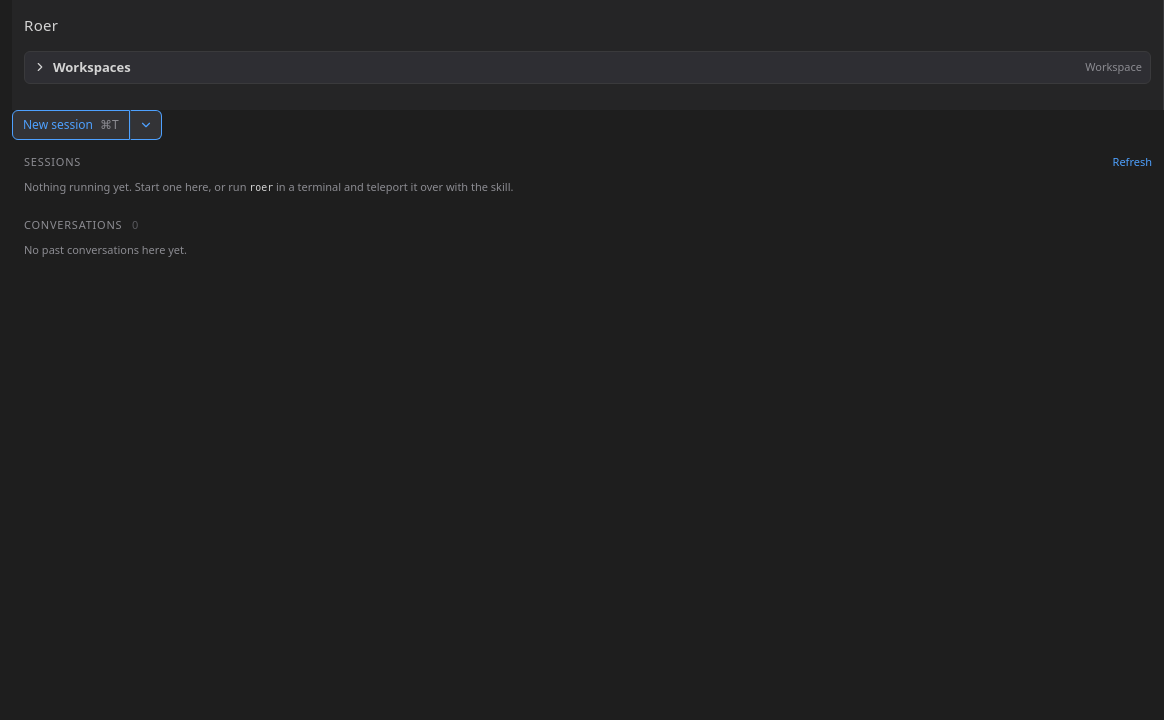
it: the selected workspace › offers no Delete for Default, only for the ones after it
The width and height of the screenshot is (1164, 720).
Click the button with aria-label "Switch Workspace or Project": click(92, 66) [24,50,1151,84]
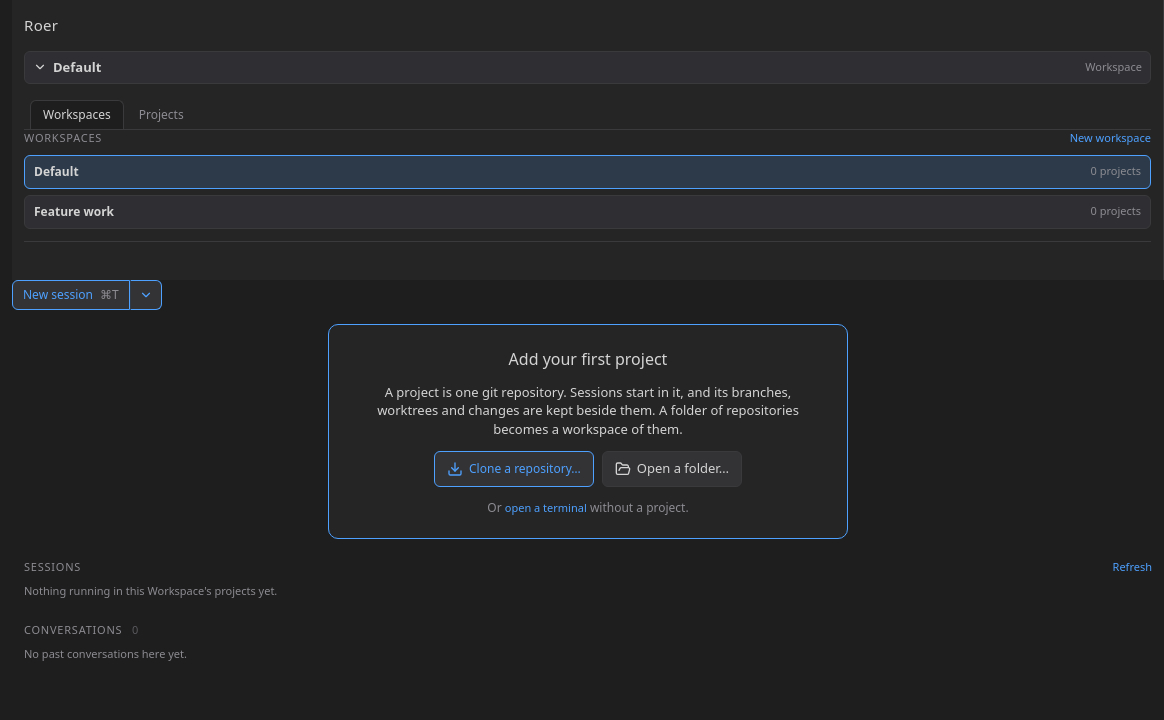
Right-click the button "Default 0 projects": (56, 171) [24,154,1151,188]
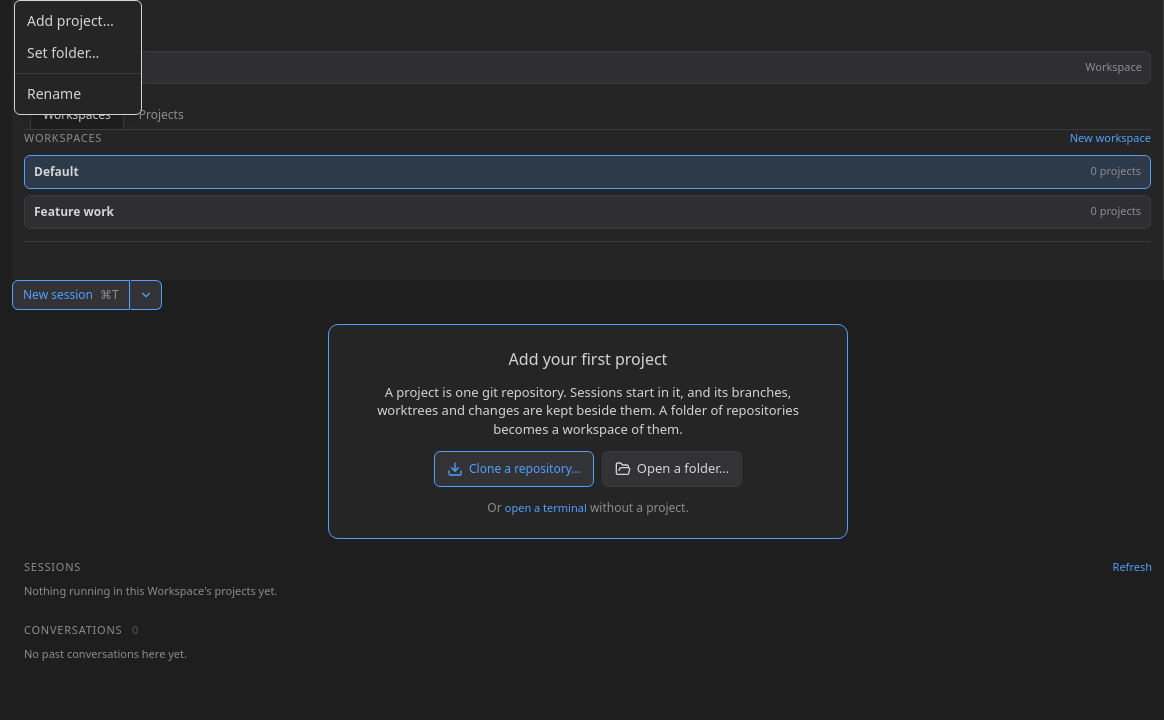
Expected: the text "Delete" is not shown
Expected: the menu item "Rename" is shown, [27,84,81,103]
Press Escape in the menu, box [14,0,142,115]
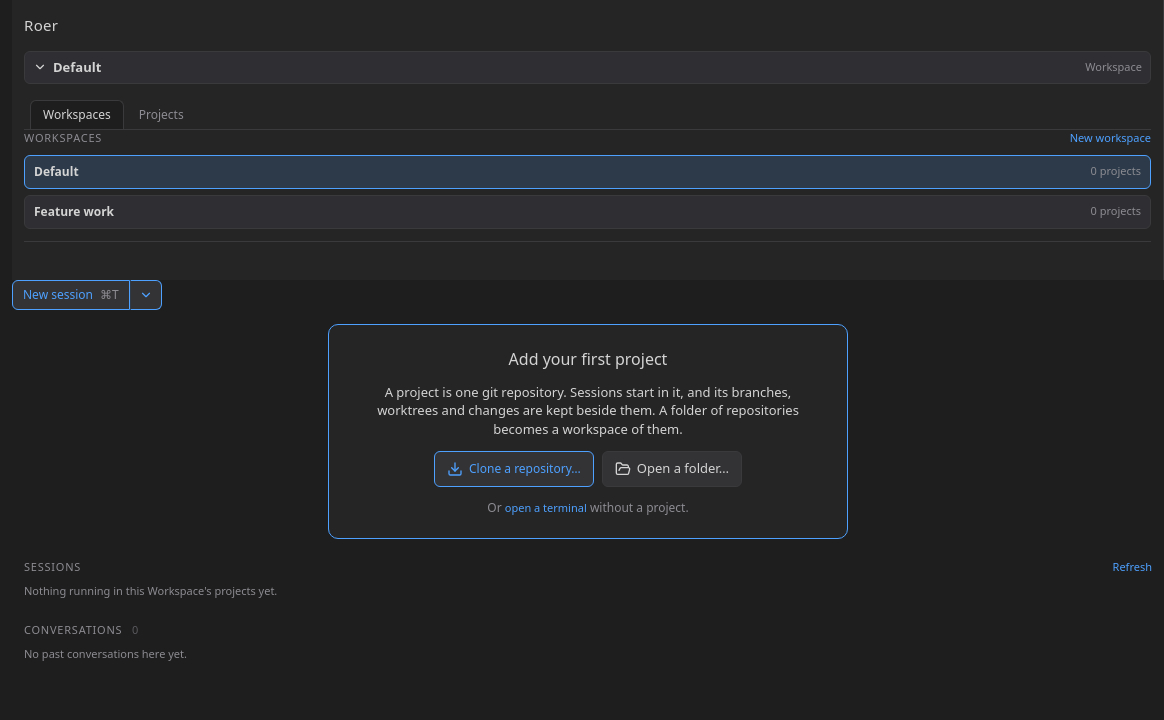
Right-click the button "Feature work 0 projects": (74, 211) [24,194,1151,228]
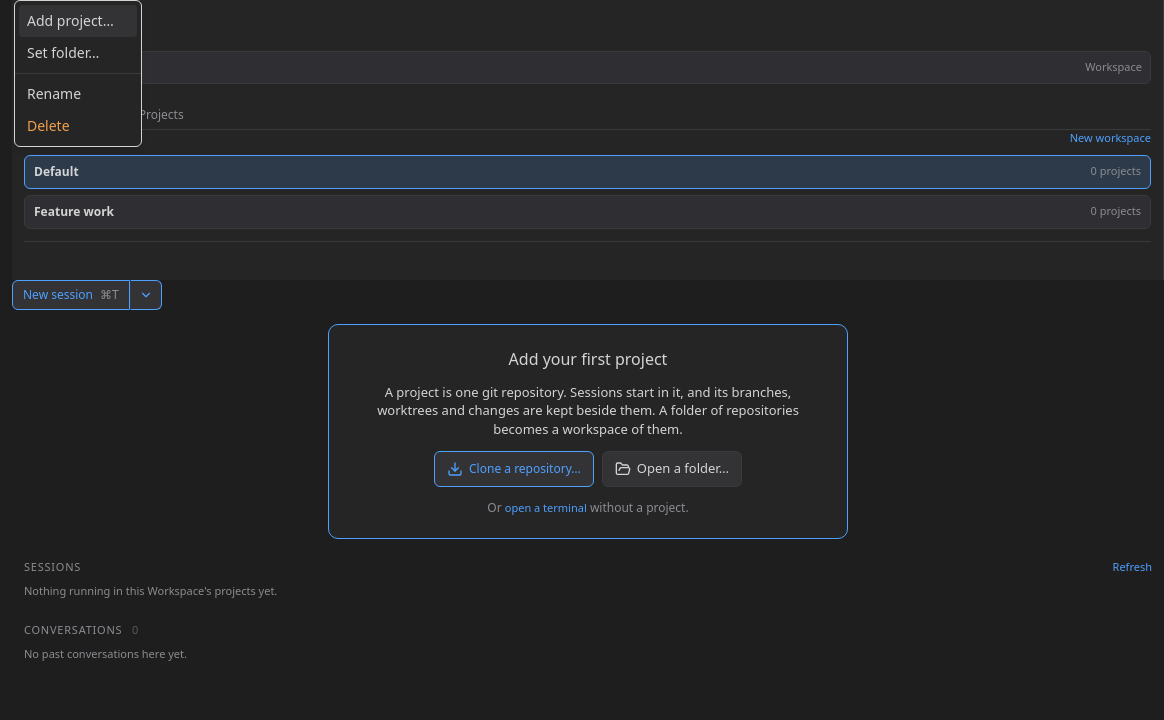
Expected: the menu item "Delete" is shown, [27,116,70,135]
